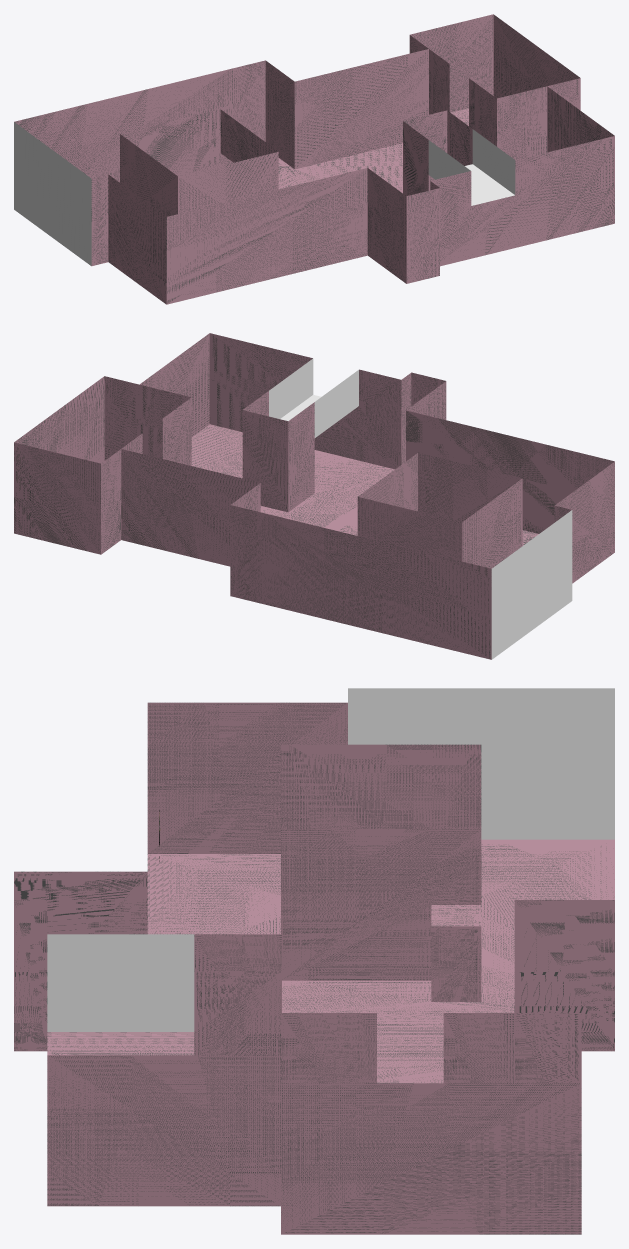
Rendered from building.dae.
3 renders of one model, top to bottom at view 1: azimuth 30°, elevation 25°; view 2: azimuth 150°, elevation 25°; view 3: azimuth 270°, elevation 25°, orthographic. The views are drawn at different scales.
Parts seen in each view (by area): view 1: SketchUp (×6); view 2: SketchUp (×6); view 3: SketchUp (×5).
Part boxes in pixels (x1=…): SketchUp (×6): x1=14, y1=14, x2=614, y2=304; SketchUp (×6): x1=14, y1=333, x2=614, y2=659; SketchUp (×5): x1=14, y1=688, x2=614, y2=1234.
Bounding box in the file's own units: 1102 × 709 × 197.
